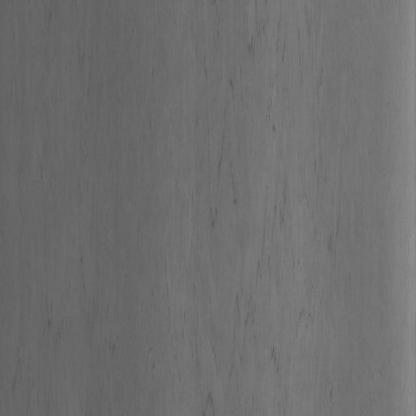silk_spot: (208, 41, 315, 379)
